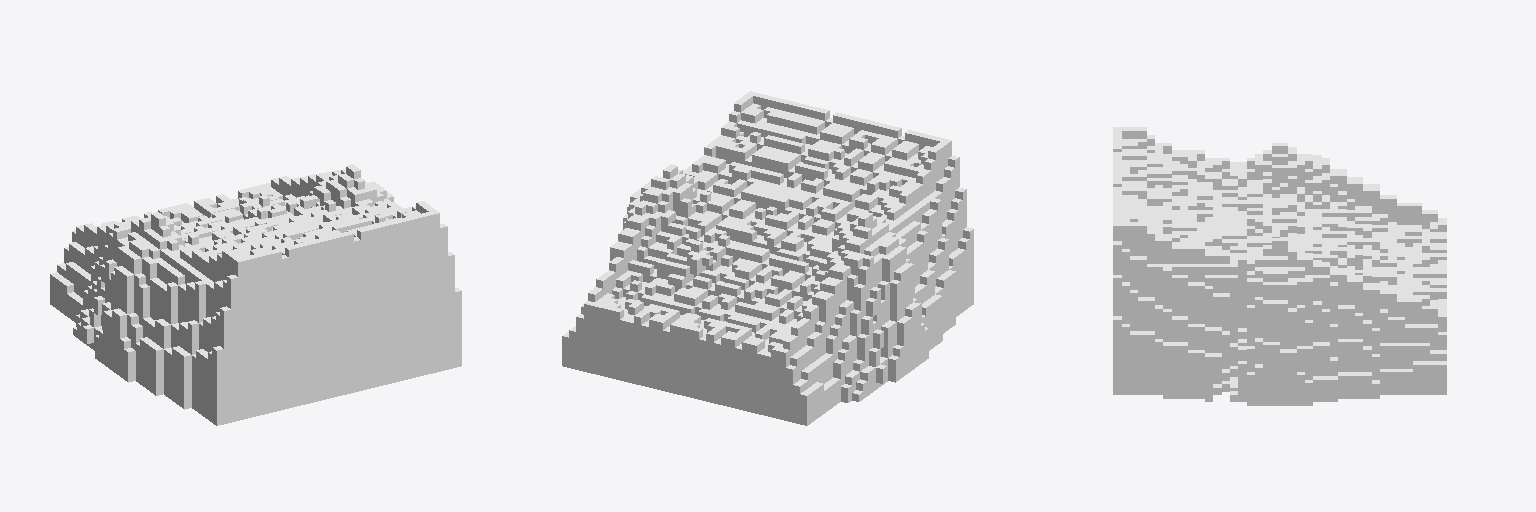
File: Stairs_Ice.obj
3 views of the same model, side by side, from view 1: azimuth 30°, elevation 25°; view 2: azimuth 150°, elevation 25°; view 3: azimuth 270°, elevation 25° (orthographic).
Bounding box in the file's own units: 40 × 21 × 40.